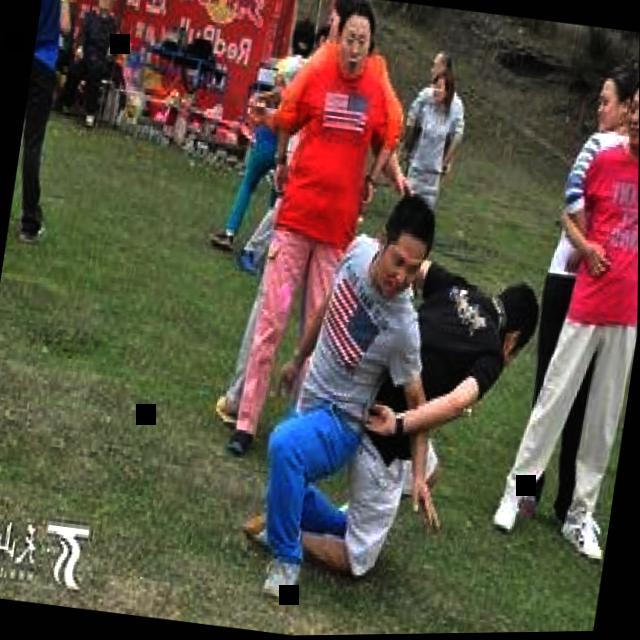Fall-Detected: (224, 203, 537, 632)
